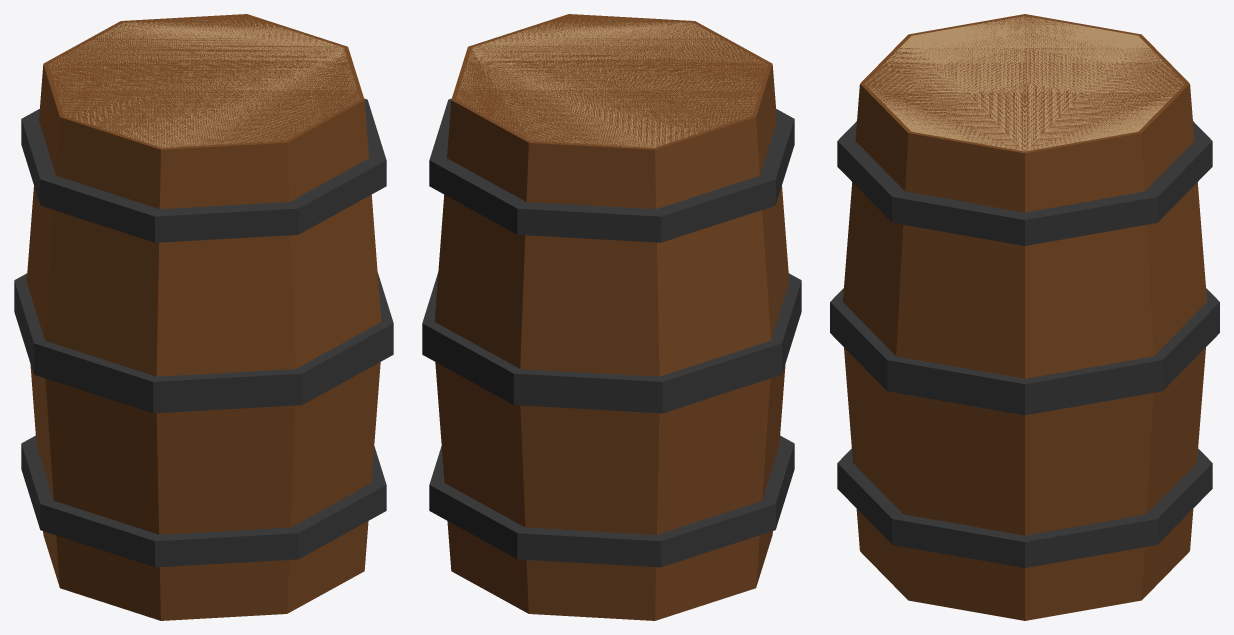
Rendered from Prop_Barrel.fbx.
The picture shows the model from 3 angles, left to right: view 1: azimuth 30°, elevation 25°; view 2: azimuth 150°, elevation 25°; view 3: azimuth 270°, elevation 25°; orthographic projection.
Parts seen in each view (by area): view 1: Prop_Barrel; view 2: Prop_Barrel; view 3: Prop_Barrel.
Part boxes in pixels (<box>): Prop_Barrel: <box>14,14,393,620</box>; Prop_Barrel: <box>422,14,801,620</box>; Prop_Barrel: <box>830,14,1219,620</box>.
Size of the model in its own units: 0.68 by 0.9 by 0.68.
